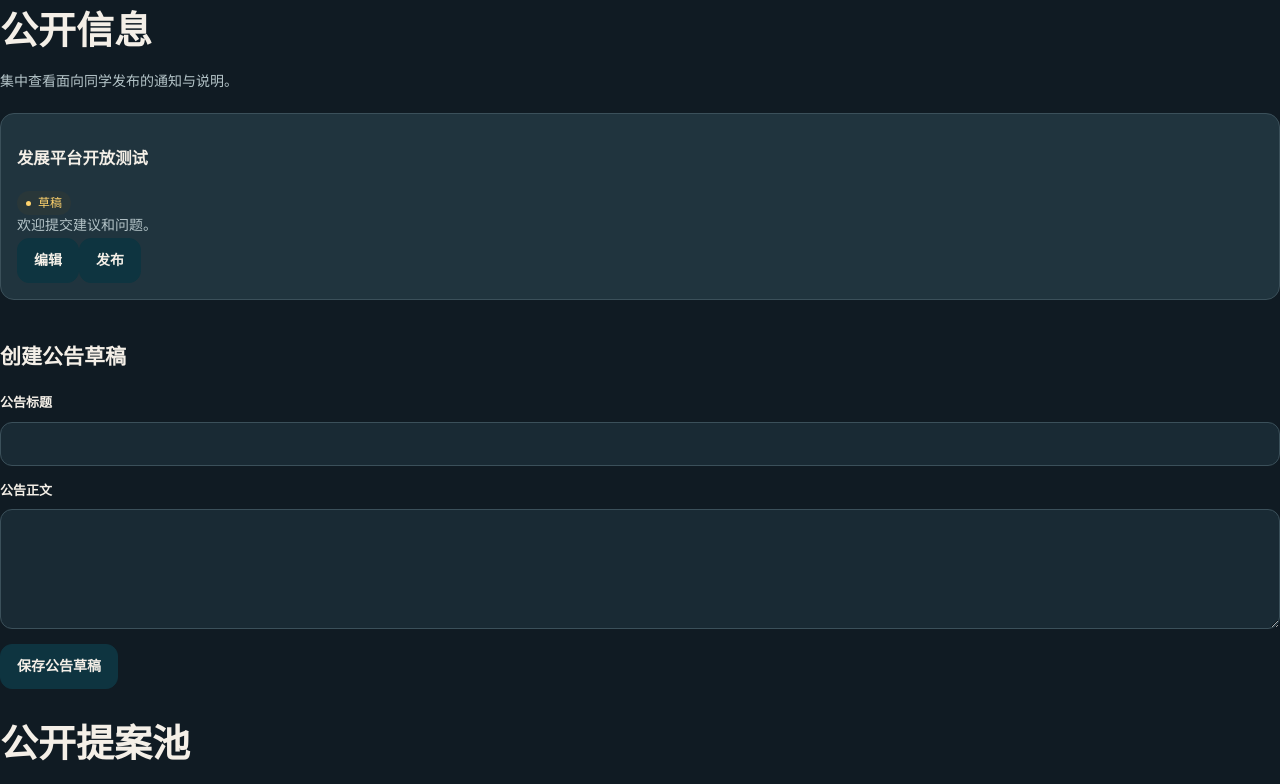
InformationPage › creates and edits announcement drafts without using generic PATCH for status
Expected: the heading "发展平台开放测试" is shown, [17, 146, 157, 173]
In the field labelled "公告标题": (640,444) [0, 422, 1279, 466], type "服务时间说明"
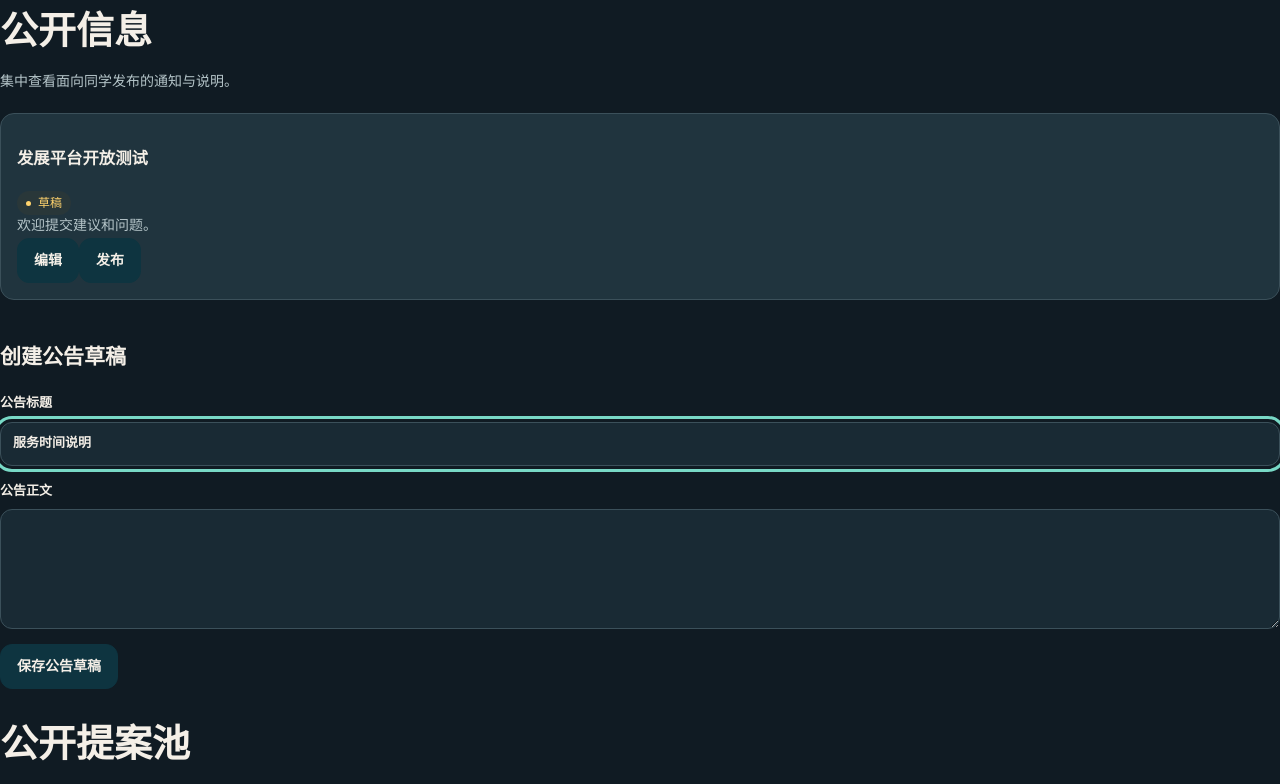
In the text box labelled "公告正文": (640,569) [0, 509, 1279, 629], type "服务台工作日开放。"
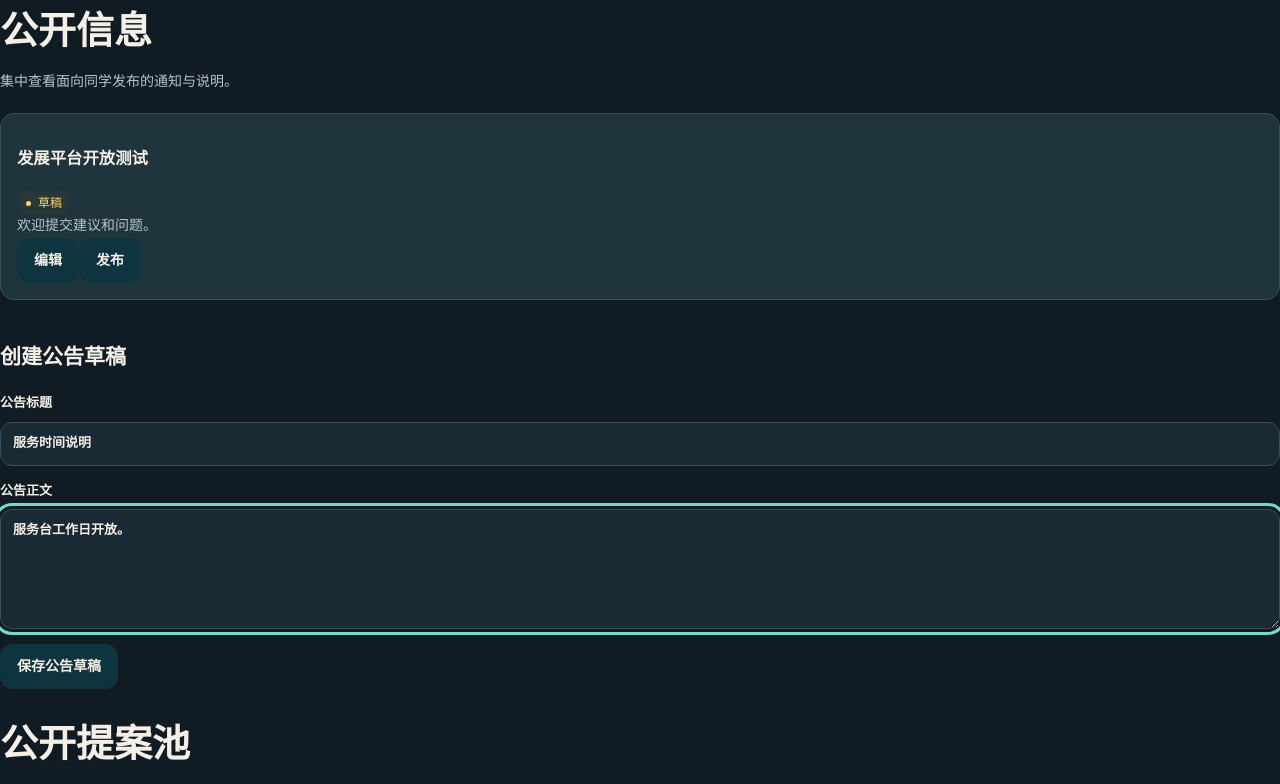
Click the button "保存公告草稿": (59,667) [0, 644, 118, 689]
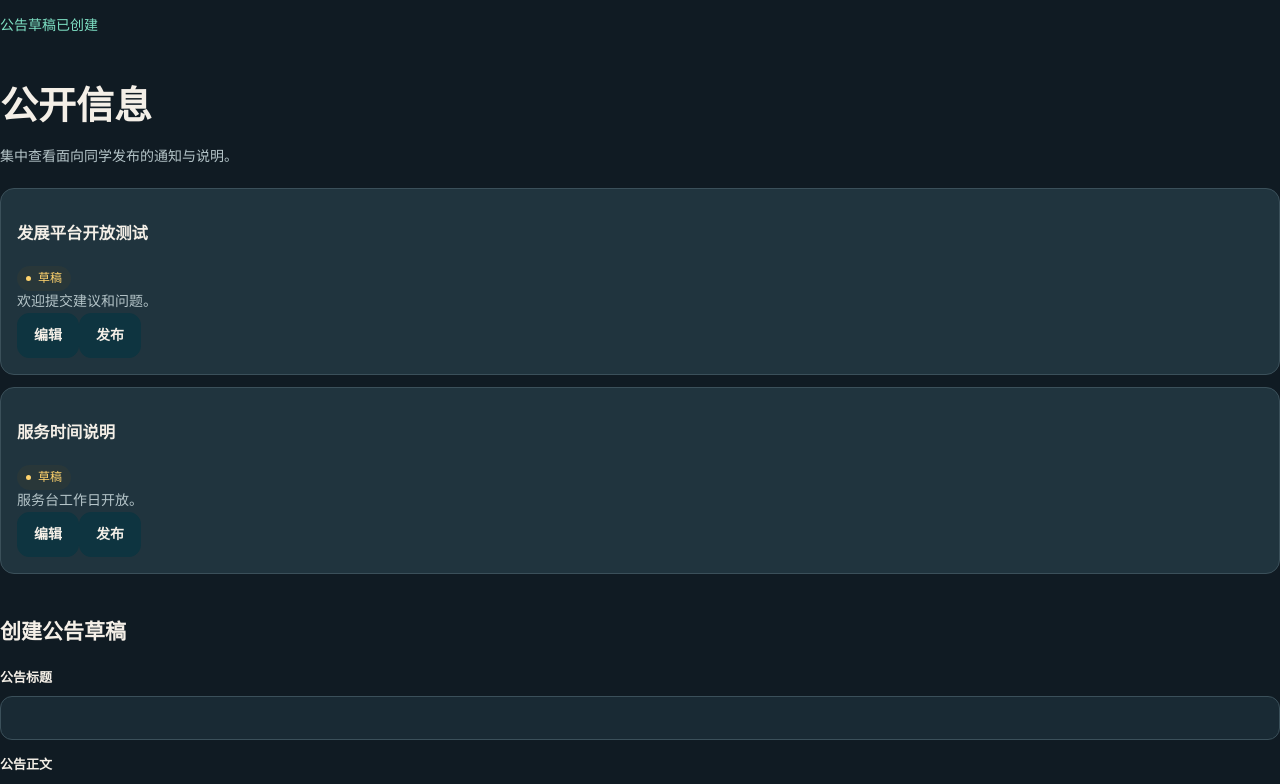
Expected: the heading "服务时间说明" is shown, [17, 423, 115, 443]
Click the button with aria-label "编辑 发展平台开放测试": (48,335) [17, 313, 79, 358]
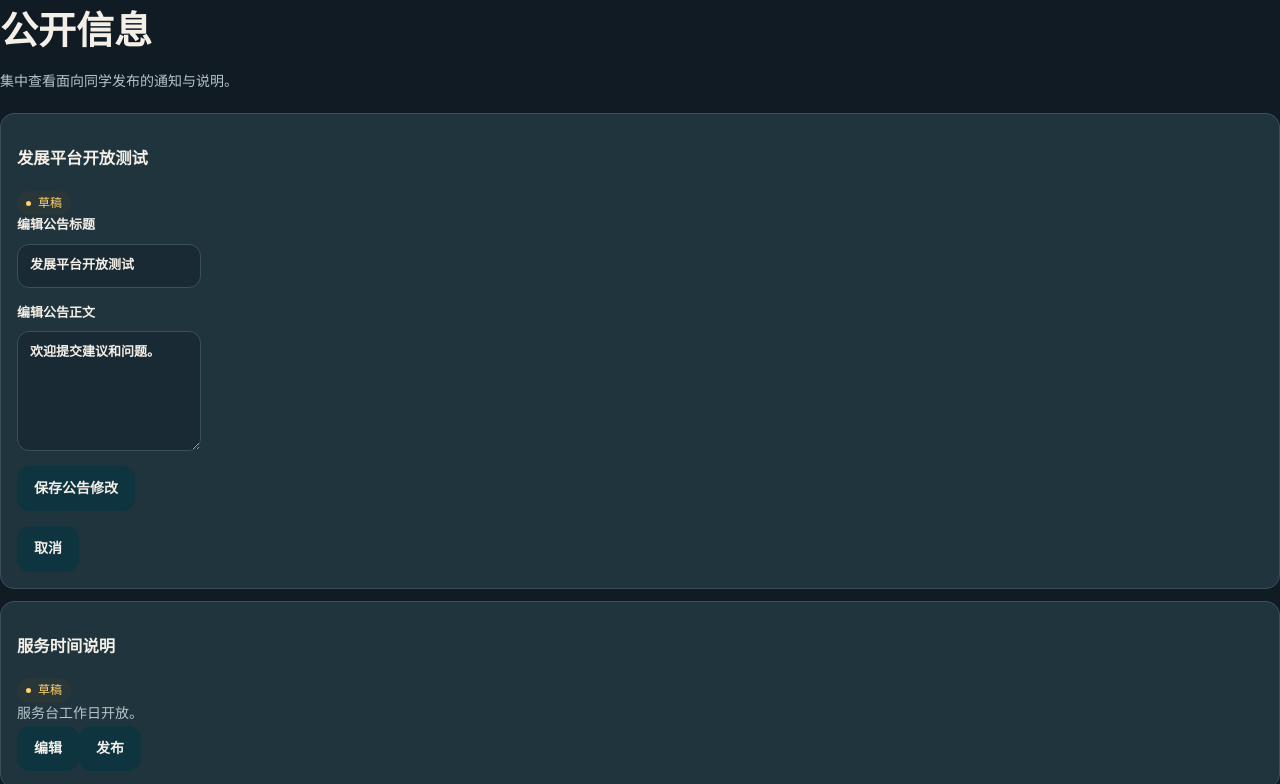
Replace the text in the field labelled "编辑公告标题" with "发展平台正式开放": (109,266) [17, 244, 201, 288]
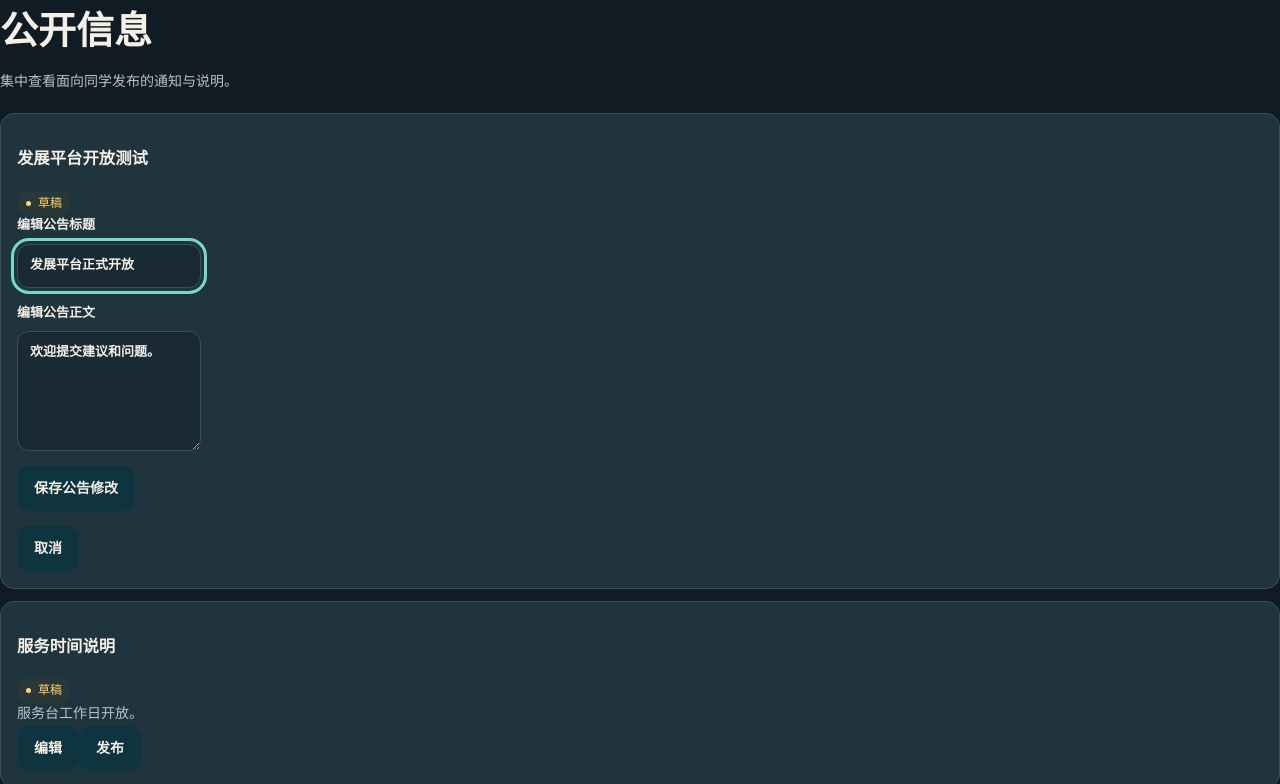
Click the button "保存公告修改": (76,489) [17, 466, 135, 511]
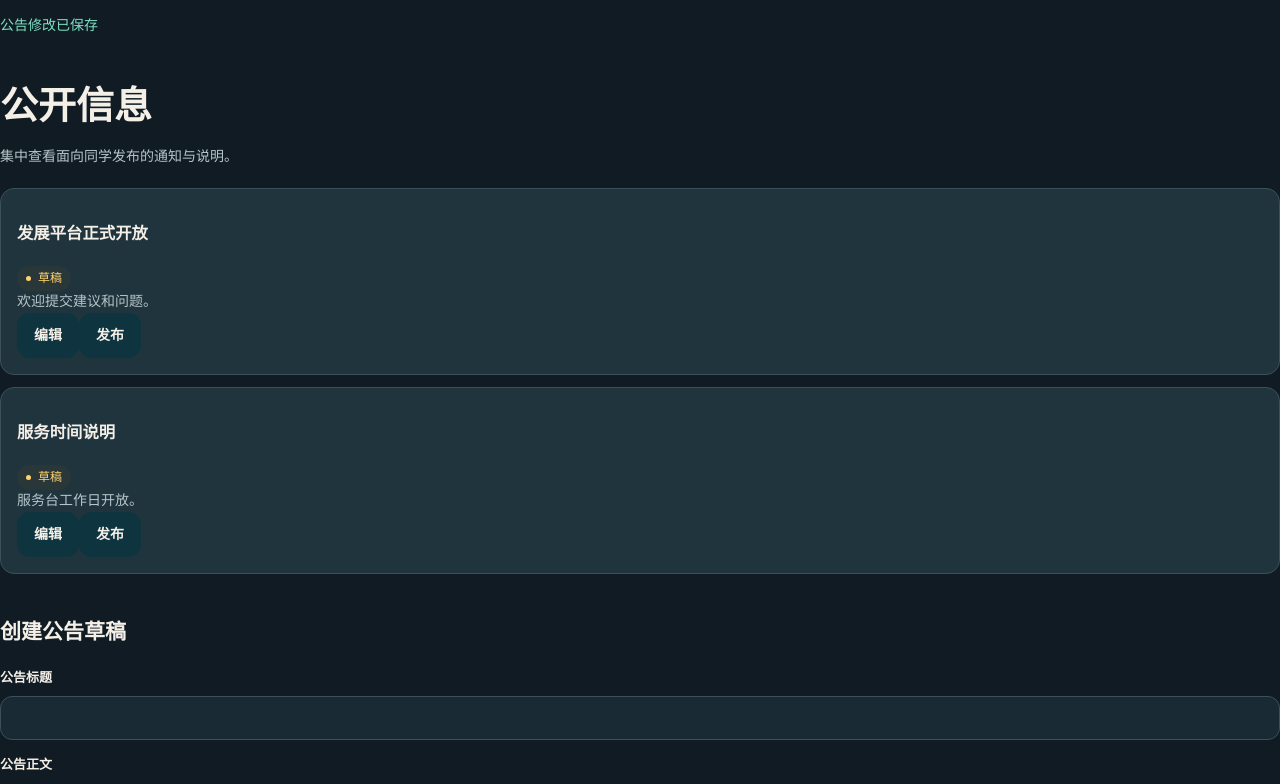
Expected: the heading "发展平台正式开放" is shown, [17, 221, 157, 248]
